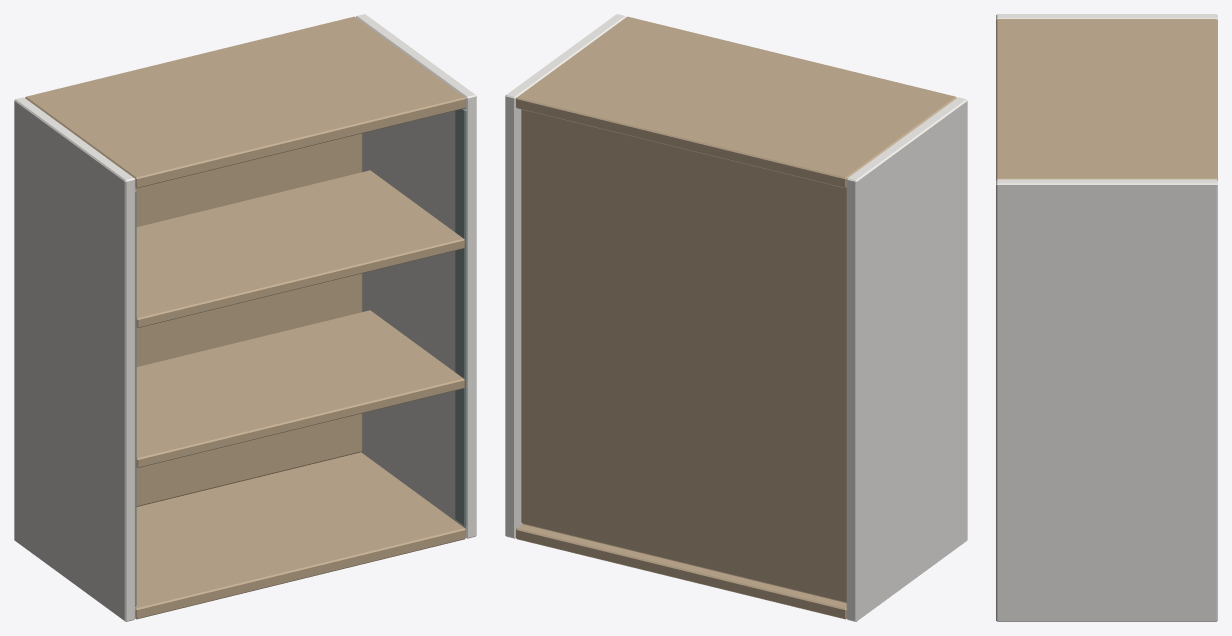
The model's file is fitted-kitchen-and-bathroom-builder-wall-600-open-shel-803ad738__17827.glb.
3 renders of one model, left to right at view 1: azimuth 30°, elevation 25°; view 2: azimuth 150°, elevation 25°; view 3: azimuth 270°, elevation 25°, orthographic.
Visible parts, largest first — view 1: wall-600-open-shelf; view 2: wall-600-open-shelf; view 3: wall-600-open-shelf.
Part boxes in pixels (x1,y1,x2,y2): wall-600-open-shelf: (14,14,476,621); wall-600-open-shelf: (505,14,967,621); wall-600-open-shelf: (996,14,1217,621).
Size of the model in its own units: 0.6 by 0.72 by 0.33.
